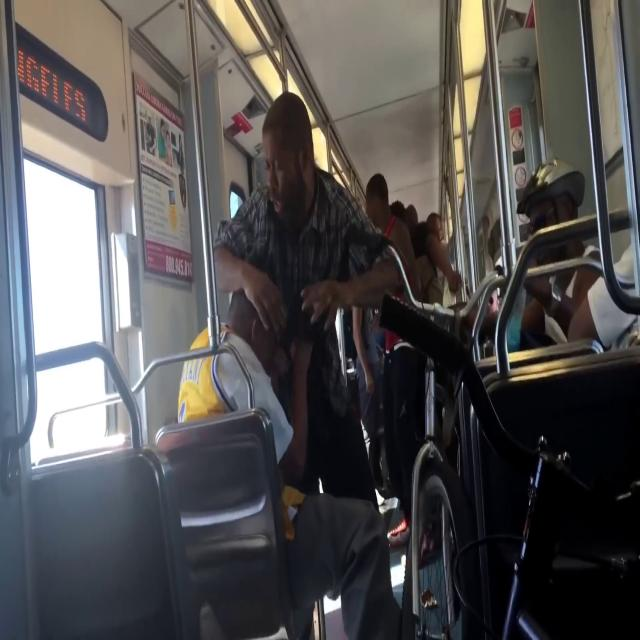Violence: (177, 88, 397, 403)
